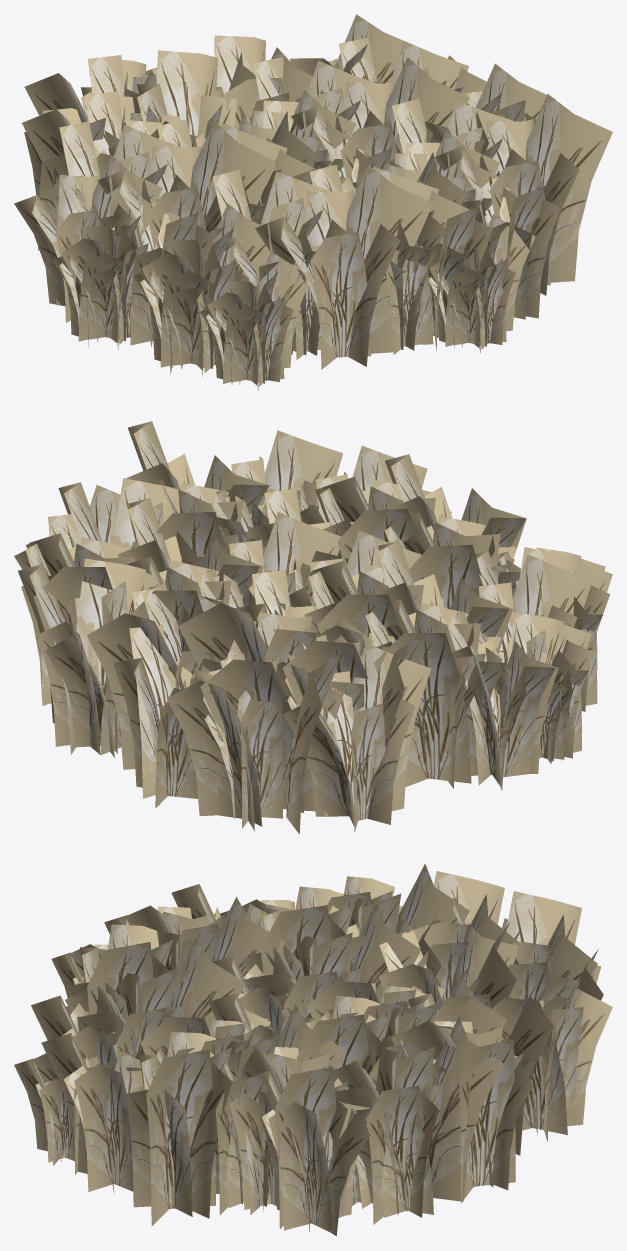
File: marsh-grass-c.dae
3 renders of one model, top to bottom at view 1: azimuth 30°, elevation 25°; view 2: azimuth 150°, elevation 25°; view 3: azimuth 270°, elevation 25°, orthographic. The views are drawn at different scales.
Visible parts, largest first — view 1: Poaceae_cluster; view 2: Poaceae_cluster; view 3: Poaceae_cluster.
Part boxes in pixels (x1,y1,x2,y2): Poaceae_cluster: (14,14,612,390); Poaceae_cluster: (14,421,612,834); Poaceae_cluster: (14,863,612,1236).
Size of what is drawn, in the model's own units: 610 by 200 by 610.
